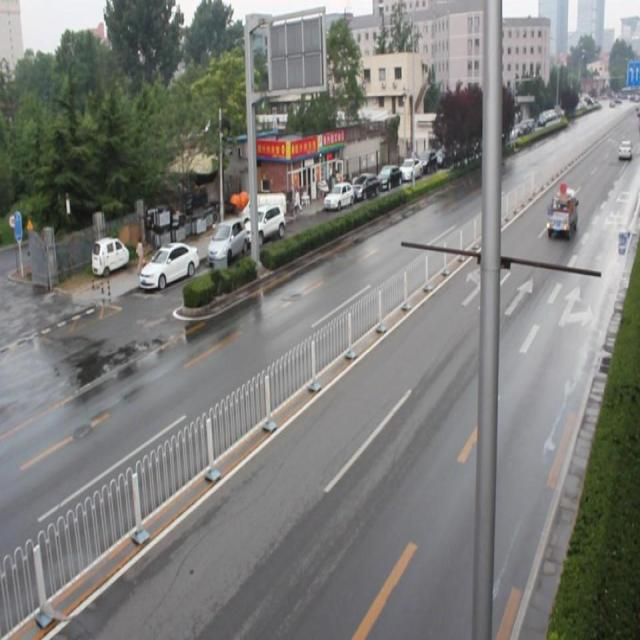bus: (546, 181, 575, 239)
